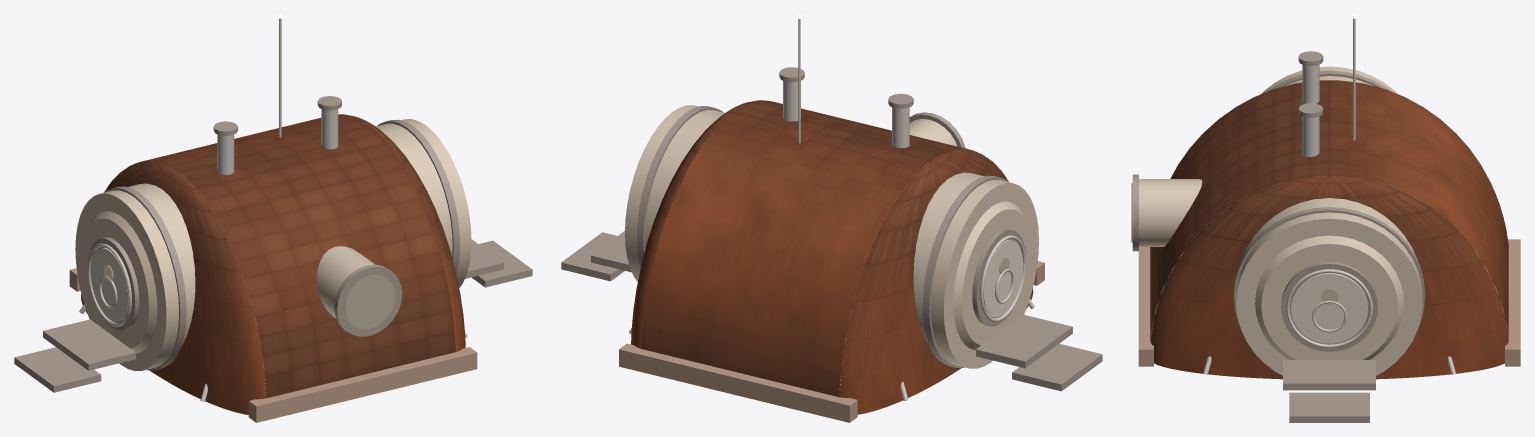
The model's file is W06_buried_habitat_6m.glb.
3 renders of one model, left to right at view 1: azimuth 30°, elevation 25°; view 2: azimuth 150°, elevation 25°; view 3: azimuth 270°, elevation 25°, orthographic. The views are drawn at different scales.
Parts seen in each view (by area): view 1: regolith_mound, mound_end (×2), hull_end (×2), hatch_step (×4), toe_wall, end_cone, end_ring (×2), window, door, window_tube, window_frame, vent_pipe (×2) (+2 smaller); view 2: regolith_mound, mound_end (×2), hull_end (×2), hatch_step (×4), toe_wall, end_cone, end_ring (×2), door, vent_pipe (×2), door_frame, seal, window_tube (+1 smaller); view 3: regolith_mound, mound_end (×2), hull_end (×2), end_cone, hatch_step (×2), door, toe_wall (×2), window_tube, end_ring (×2), door_frame, vent_pipe (×2), seal (+2 smaller).
Boxes of the visible parts, bbox=[...] form: regolith_mound: bbox=[135, 114, 455, 398]; mound_end (×2): bbox=[81, 114, 465, 414]; hull_end (×2): bbox=[75, 119, 471, 371]; hatch_step (×4): bbox=[14, 239, 532, 392]; toe_wall: bbox=[248, 347, 477, 422]; end_cone: bbox=[82, 211, 157, 353]; end_ring (×2): bbox=[103, 119, 459, 370]; window: bbox=[344, 274, 395, 329]; door: bbox=[90, 248, 128, 321]; window_tube: bbox=[317, 246, 374, 317]; window_frame: bbox=[334, 264, 402, 336]; vent_pipe (×2): bbox=[217, 109, 338, 174]; regolith_mound: bbox=[641, 100, 977, 396]; mound_end (×2): bbox=[631, 100, 1033, 414]; hull_end (×2): bbox=[625, 105, 1038, 368]; hatch_step (×4): bbox=[561, 231, 1102, 391]; toe_wall: bbox=[619, 343, 857, 422]; end_cone: bbox=[953, 201, 1031, 350]; end_ring (×2): bbox=[637, 106, 1009, 367]; door: bbox=[983, 240, 1023, 317]; vent_pipe (×2): bbox=[783, 81, 909, 147]; door_frame: bbox=[972, 229, 1025, 326]; seal: bbox=[980, 235, 1025, 322]; window_tube: bbox=[909, 119, 957, 146]; regolith_mound: bbox=[1150, 81, 1508, 339]; mound_end (×2): bbox=[1150, 80, 1508, 379]; hull_end (×2): bbox=[1236, 66, 1422, 375]; end_cone: bbox=[1255, 235, 1403, 359]; hatch_step (×2): bbox=[1283, 360, 1375, 422]; door: bbox=[1291, 273, 1367, 343]; toe_wall (×2): bbox=[1138, 239, 1520, 366]; window_tube: bbox=[1139, 179, 1228, 246]; end_ring (×2): bbox=[1234, 70, 1425, 326]; door_frame: bbox=[1281, 262, 1377, 351]; vent_pipe (×2): bbox=[1302, 64, 1319, 178]; seal: bbox=[1286, 269, 1372, 348].
Bounding box in the file's own units: 9.1 × 5.49 × 6.26.
Materials: 9 (2 with a texture image).
